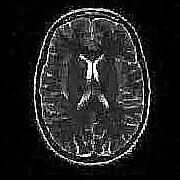Normal_Brain: (30, 1, 173, 180)
